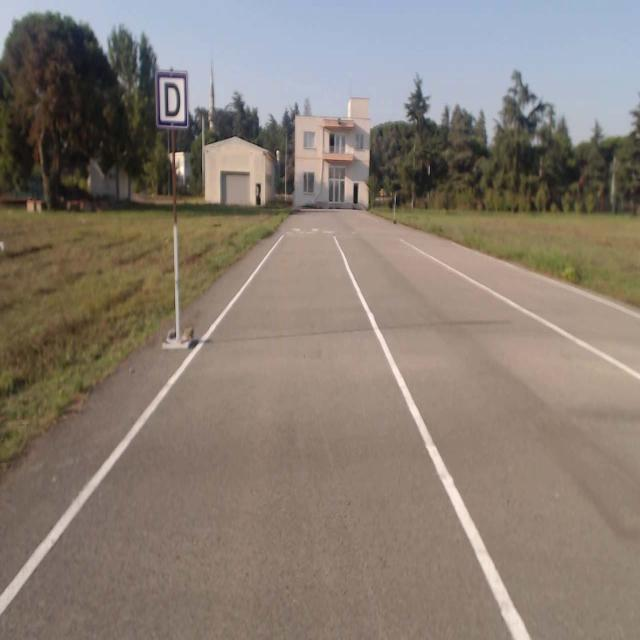durak: (155, 71, 188, 125)
